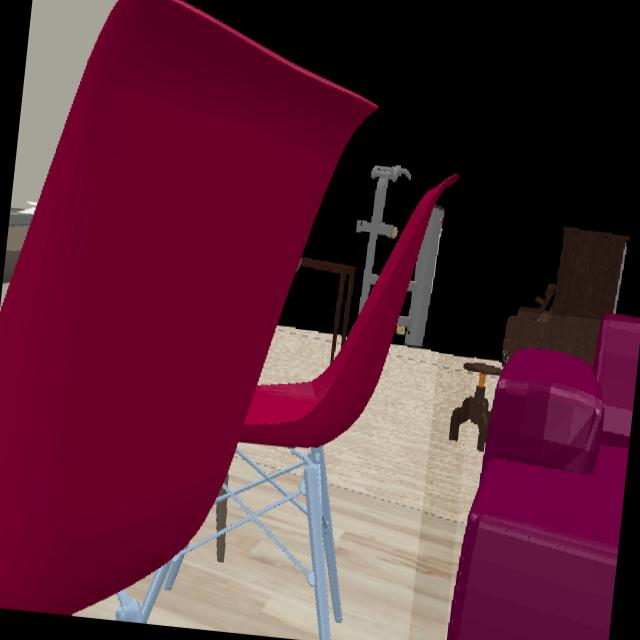chair: (0, 0, 457, 640)
sofa: (445, 322, 639, 640)
